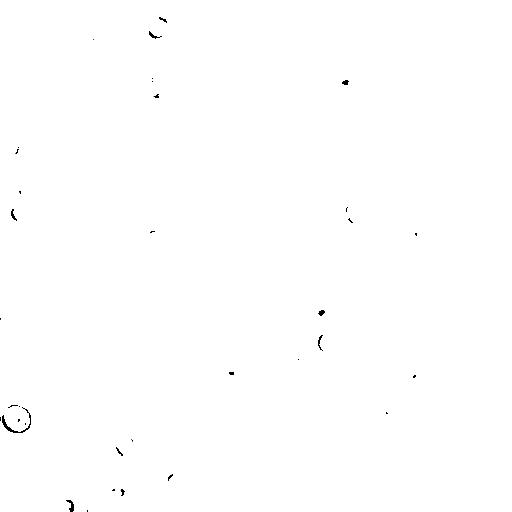micro-algae: (226, 372, 333, 481), (145, 2, 211, 71), (385, 69, 421, 108), (277, 415, 309, 452), (372, 393, 409, 423), (403, 216, 441, 245), (303, 301, 340, 330), (11, 63, 41, 98), (328, 65, 361, 96), (397, 355, 425, 391), (186, 184, 215, 218), (427, 245, 461, 274), (3, 402, 33, 433), (216, 359, 249, 387), (77, 19, 103, 53), (398, 39, 427, 67), (69, 388, 97, 414), (152, 67, 179, 93), (0, 103, 31, 125), (140, 226, 167, 251), (142, 15, 170, 39), (415, 393, 439, 421), (225, 119, 247, 148), (432, 1, 469, 18), (165, 470, 189, 496), (27, 18, 48, 47), (113, 434, 135, 459), (284, 343, 309, 365), (126, 482, 153, 502), (120, 89, 141, 114), (245, 79, 265, 104), (343, 201, 363, 226), (309, 288, 335, 307), (317, 328, 337, 352), (5, 134, 23, 160), (131, 302, 150, 325), (396, 292, 415, 313), (92, 461, 114, 479), (67, 445, 91, 460), (9, 203, 28, 221), (85, 494, 104, 511), (56, 23, 69, 45), (109, 486, 125, 503), (17, 185, 35, 199), (57, 499, 76, 512), (9, 0, 39, 7)
